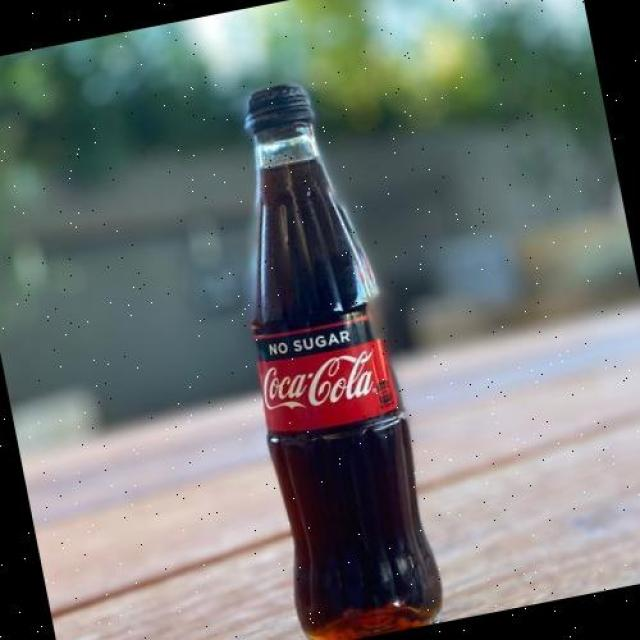coca-cola: (181, 60, 464, 640)
